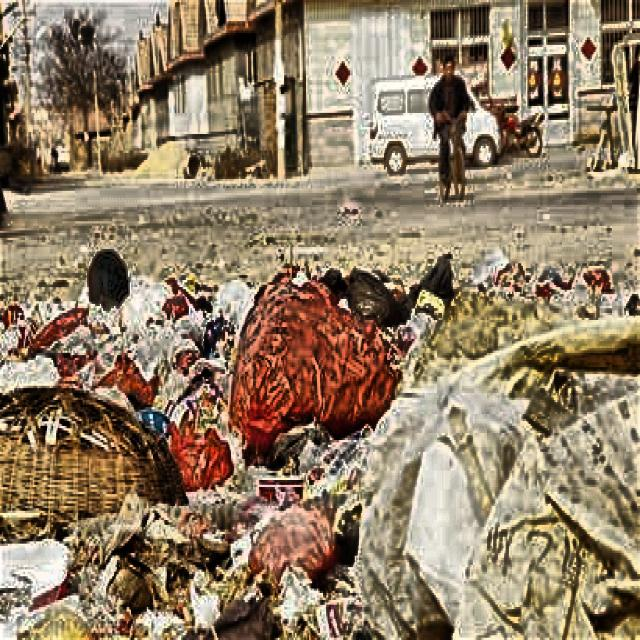garbage: (3, 298, 639, 638)
